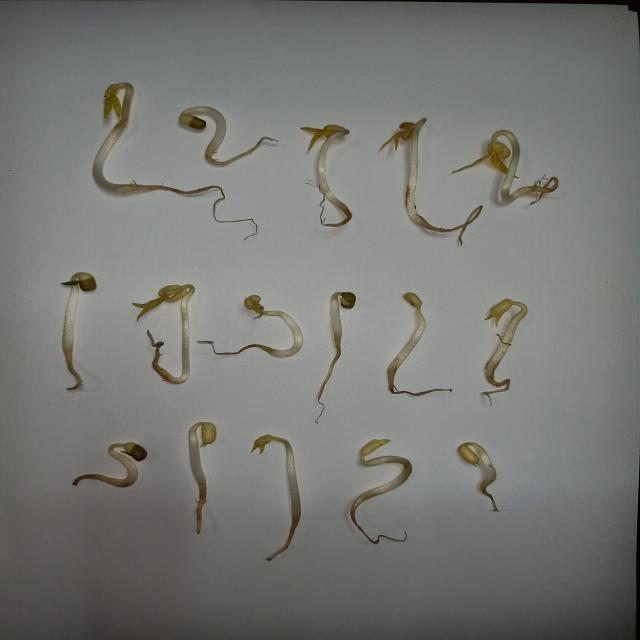leaf: (111, 280, 175, 322), (449, 136, 494, 179), (297, 122, 347, 152), (383, 115, 413, 152), (481, 296, 514, 328), (100, 84, 122, 120), (353, 437, 393, 456), (174, 113, 208, 132), (454, 444, 480, 468), (122, 442, 150, 463), (399, 290, 427, 308), (200, 421, 218, 449), (248, 434, 272, 454), (80, 270, 100, 292), (240, 294, 265, 311), (340, 290, 358, 310)
root: (142, 182, 269, 244), (312, 336, 343, 424), (348, 511, 416, 549), (423, 214, 487, 248), (384, 368, 455, 398), (198, 334, 274, 362), (202, 146, 286, 170), (264, 518, 303, 562), (143, 328, 173, 385), (305, 201, 357, 229), (479, 371, 514, 407), (58, 352, 86, 392), (477, 480, 505, 516), (534, 175, 563, 209), (189, 495, 212, 535), (72, 472, 102, 488)
stem: (90, 81, 142, 202), (348, 455, 415, 511), (272, 433, 314, 518), (492, 127, 534, 208), (486, 301, 530, 371), (388, 308, 431, 368), (174, 278, 197, 384), (407, 118, 428, 222), (318, 134, 350, 202), (273, 306, 309, 362), (187, 421, 212, 495), (102, 442, 139, 491), (464, 441, 506, 480), (61, 271, 79, 352), (206, 106, 229, 146), (328, 292, 341, 336)
